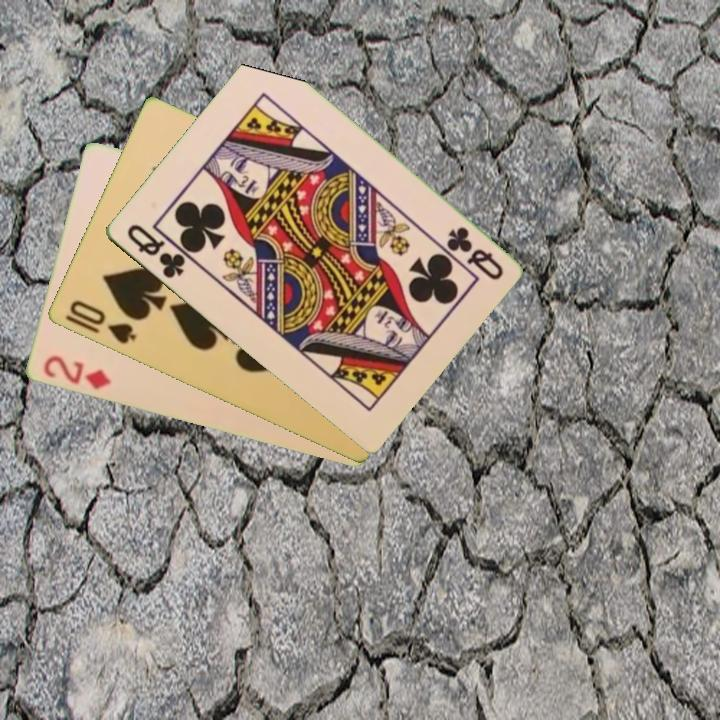10s: (65, 297, 139, 348)
2d: (39, 352, 114, 393)
Qc: (122, 220, 188, 282), (443, 222, 506, 284)
